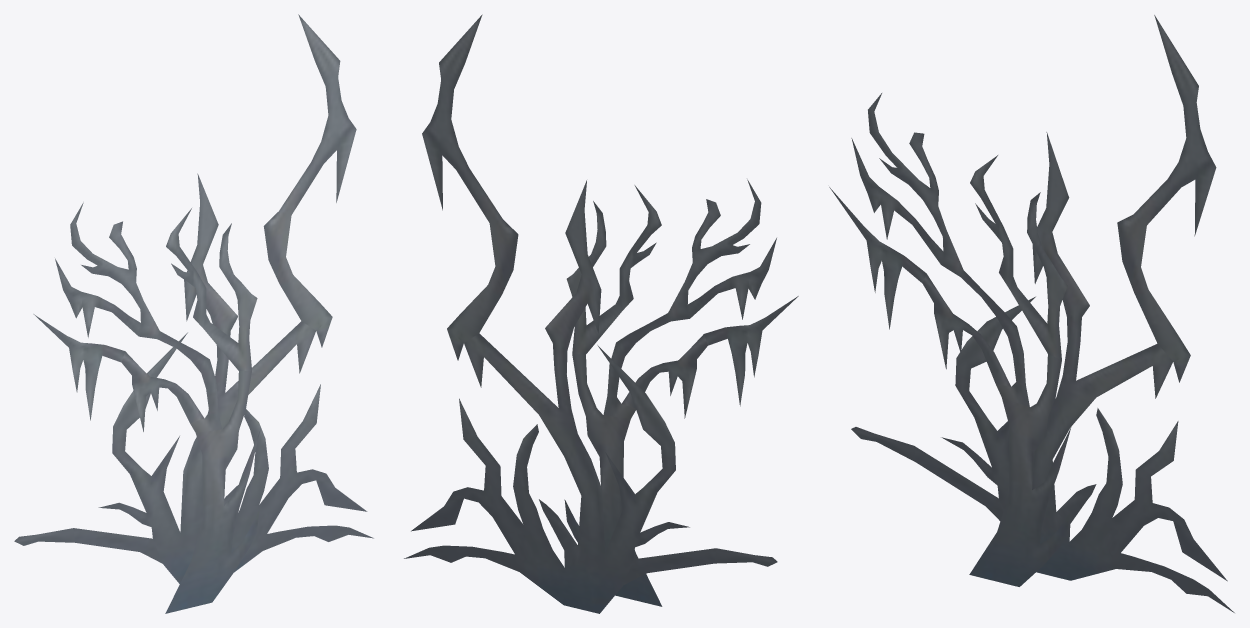
The model's file is LGhuangyuan_cao01.FBX.
3 views of the same model, side by side, from view 1: azimuth 30°, elevation 25°; view 2: azimuth 150°, elevation 25°; view 3: azimuth 330°, elevation 25° (orthographic). The views are drawn at different scales.
Parts seen in each view (by area): view 1: LGhuangyuan_cao01; view 2: LGhuangyuan_cao01; view 3: LGhuangyuan_cao01.
Part boxes in pixels (bbox=[...]): LGhuangyuan_cao01: bbox=[14, 14, 373, 613]; LGhuangyuan_cao01: bbox=[404, 14, 798, 613]; LGhuangyuan_cao01: bbox=[829, 15, 1234, 612].
Bounding box in the file's own units: 218 × 20.88 × 316.
